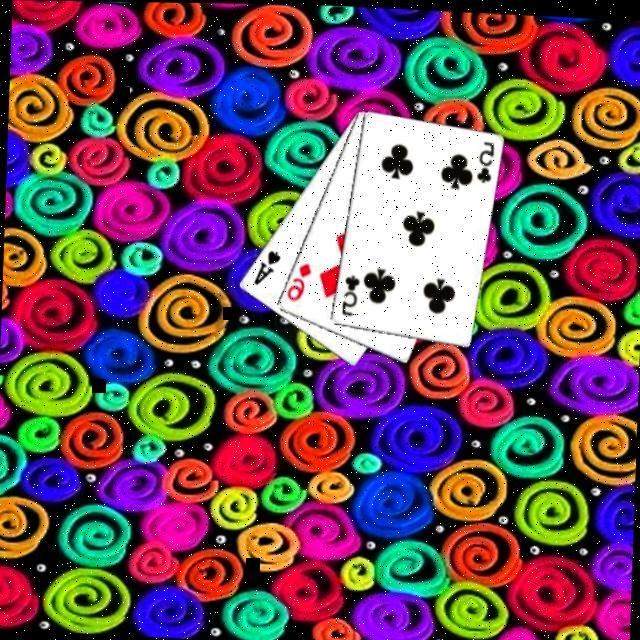5C: (338, 272, 363, 320), (473, 138, 498, 186)
9D: (283, 260, 315, 305)
AS: (250, 247, 284, 289)
